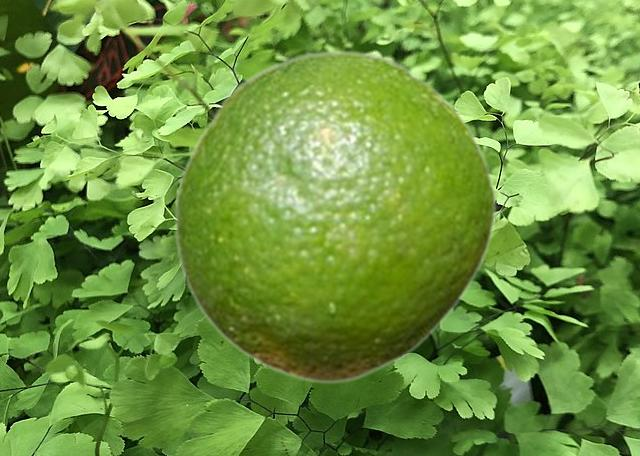calamansi: (173, 49, 496, 384)
